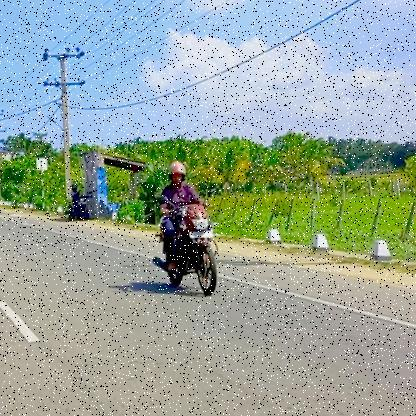motorcycle: (143, 202, 225, 301)
